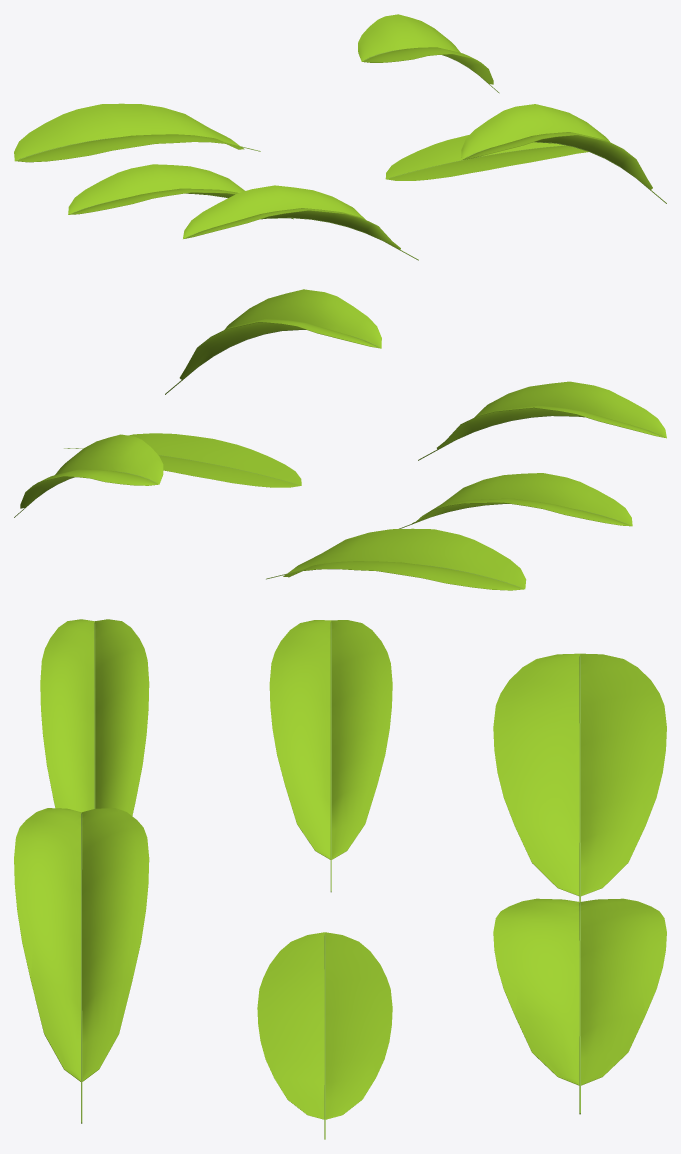
File: leaves.original.glb
3 renders of one model, top to bottom at view 1: azimuth 30°, elevation 25°; view 2: azimuth 150°, elevation 25°; view 3: azimuth 270°, elevation 25°, orthographic. The views are drawn at different scales.
Parts seen in each view (by area): view 1: Material2 (×2); view 2: Material2 (×2); view 3: Material2 (×2).
Part boxes in pixels (x1,y1,x2,y2): Material2 (×2): (14,14,666,260); Material2 (×2): (14,289,666,590); Material2 (×2): (14,619,666,1139).
Bounding box in the file's own units: 1.75e+08 × 3.53e+07 × 1.14e+08.
